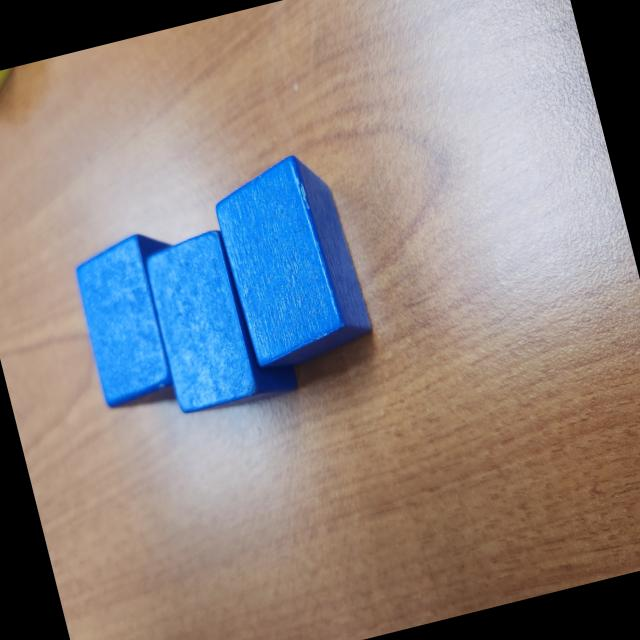blue: (206, 146, 378, 382), (137, 218, 300, 420), (66, 224, 210, 414)
yellow: (0, 65, 30, 128)
